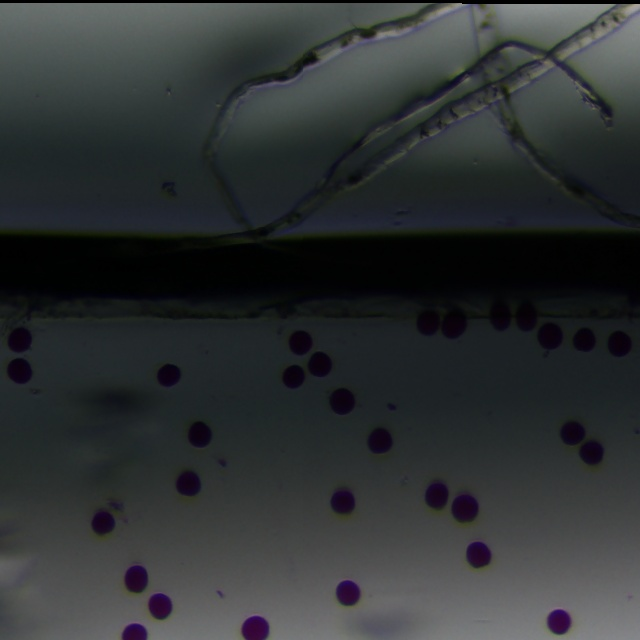viable: (452, 495, 478, 521), (330, 389, 355, 415), (442, 312, 466, 338), (538, 323, 562, 349), (242, 616, 269, 639), (467, 542, 491, 567), (517, 302, 537, 331), (368, 429, 392, 453), (177, 471, 201, 495), (547, 610, 571, 634), (149, 593, 172, 618), (337, 580, 360, 605), (425, 483, 448, 508), (8, 359, 31, 384), (125, 565, 147, 591), (189, 422, 211, 448), (8, 328, 31, 352), (331, 490, 355, 513), (609, 332, 631, 357), (92, 511, 115, 534), (157, 364, 180, 387), (289, 332, 312, 355), (309, 353, 331, 377), (561, 422, 585, 444), (580, 442, 604, 464), (417, 311, 439, 335), (491, 303, 510, 330), (574, 329, 595, 351), (283, 366, 304, 388), (122, 624, 147, 639)
